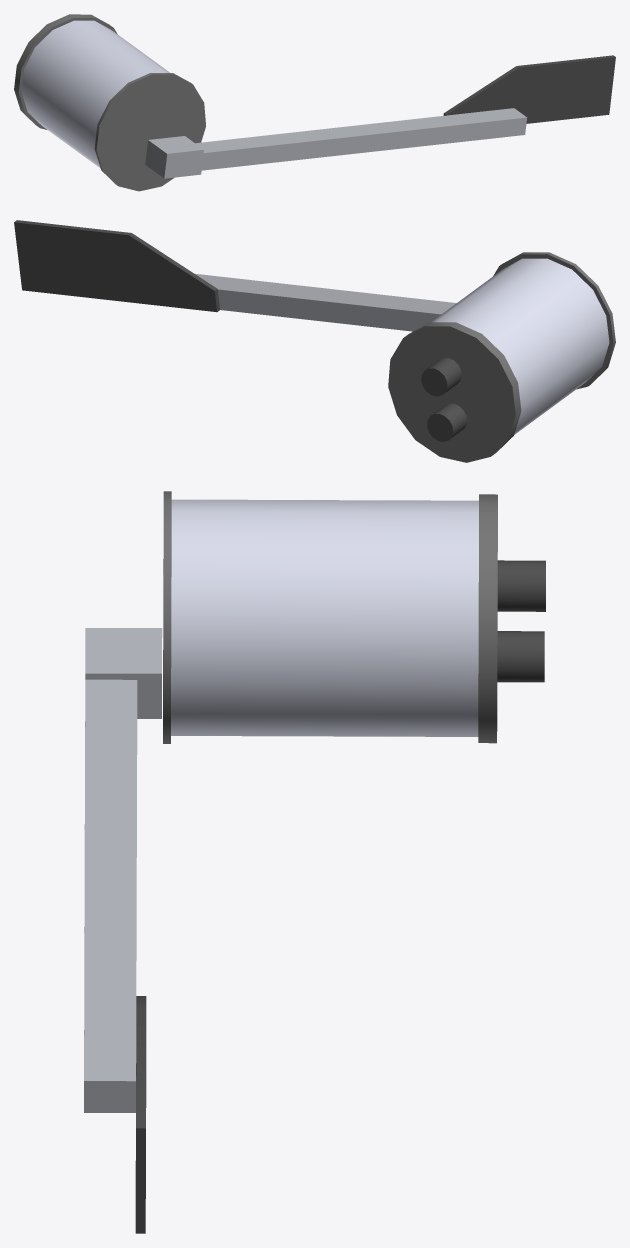
Rendered from Femur.obj.
3 renders of one model, top to bottom at view 1: azimuth 30°, elevation 25°; view 2: azimuth 150°, elevation 25°; view 3: azimuth 270°, elevation 25°, orthographic. The views are drawn at different scales.
Visible parts, largest first — view 1: Femur, Femur FemurBone; view 2: Femur, Femur FemurBone, Femur FemurCanisterButton; view 3: Femur, Femur FemurBone, Femur FemurCanisterButton.
Part boxes in pixels (x1,y1,x2,y2): Femur: (14,14,205,191); Femur FemurBone: (145,55,615,178); Femur: (388,252,615,462); Femur FemurBone: (14,220,456,331); Femur FemurCanisterButton: (427,403,467,441); Femur: (163,491,545,743); Femur FemurBone: (84,628,162,1233); Femur FemurCanisterButton: (497,631,544,682).
Size of the model in its own units: 2.31 by 0.6243 by 0.9012.
Materials: 1 (1 with a texture image).
